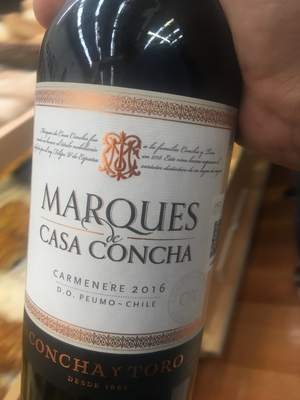marques de casa concha carmenere: (20, 10, 247, 400)
